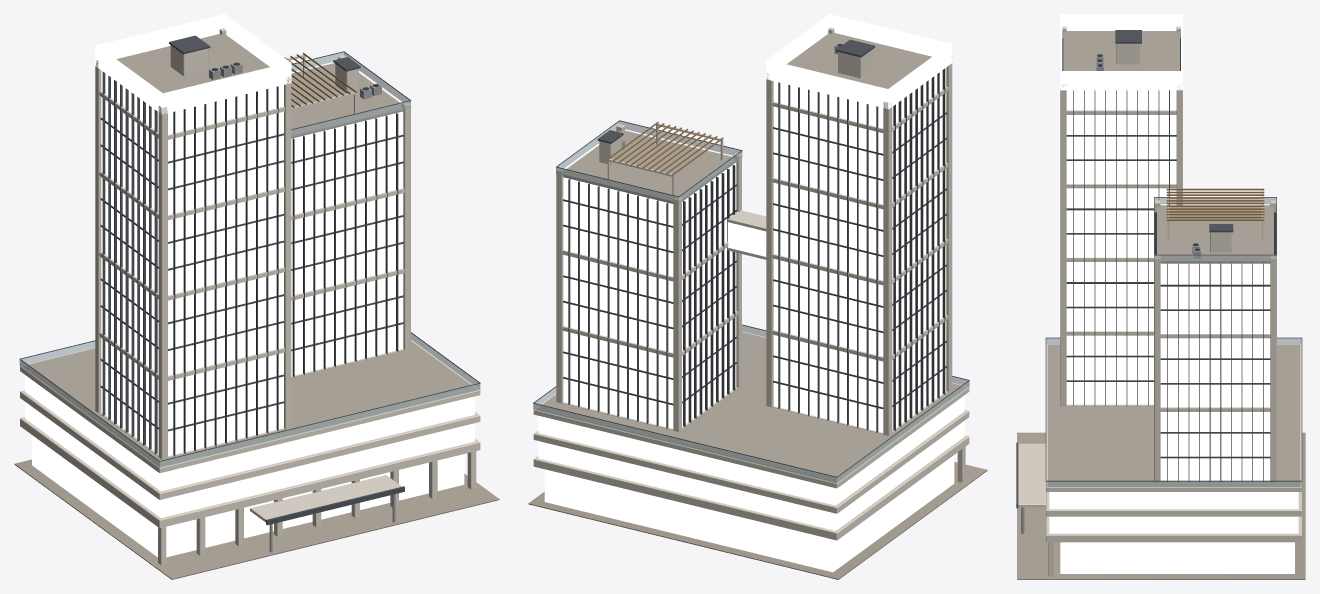
The model's file is office-complex.glb.
3 views of the same model, side by side, from view 1: azimuth 30°, elevation 25°; view 2: azimuth 150°, elevation 25°; view 3: azimuth 270°, elevation 25° (orthographic). The views are drawn at different scales.
Visible parts, largest first — view 1: office-complex_v0; view 2: office-complex_v0; view 3: office-complex_v0.
Boxes of the visible parts, left/top/right/bottom form: office-complex_v0: left=14, top=14, right=499, bottom=579; office-complex_v0: left=528, top=14, right=987, bottom=579; office-complex_v0: left=1016, top=14, right=1305, bottom=579.
Size of the model in its own units: 48 by 66.1 by 40.1.
